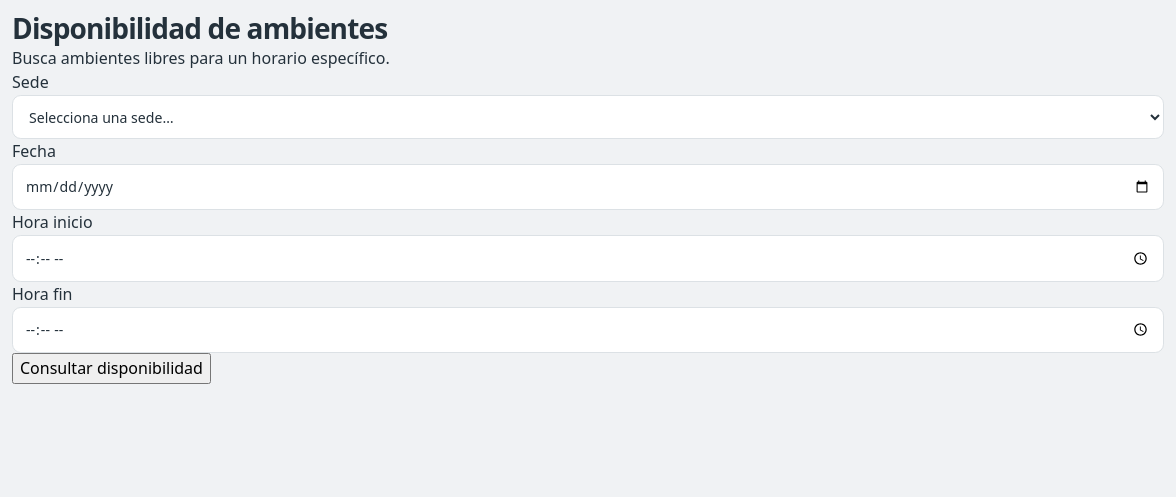
Test case: DisponibilidadPage reservation handoff › shows availability but no reserve action for instructors
The width and height of the screenshot is (1176, 497).
Select "Centro" in the dropdown labelled "Sede" at (588, 117), box [12,95,1164,139]
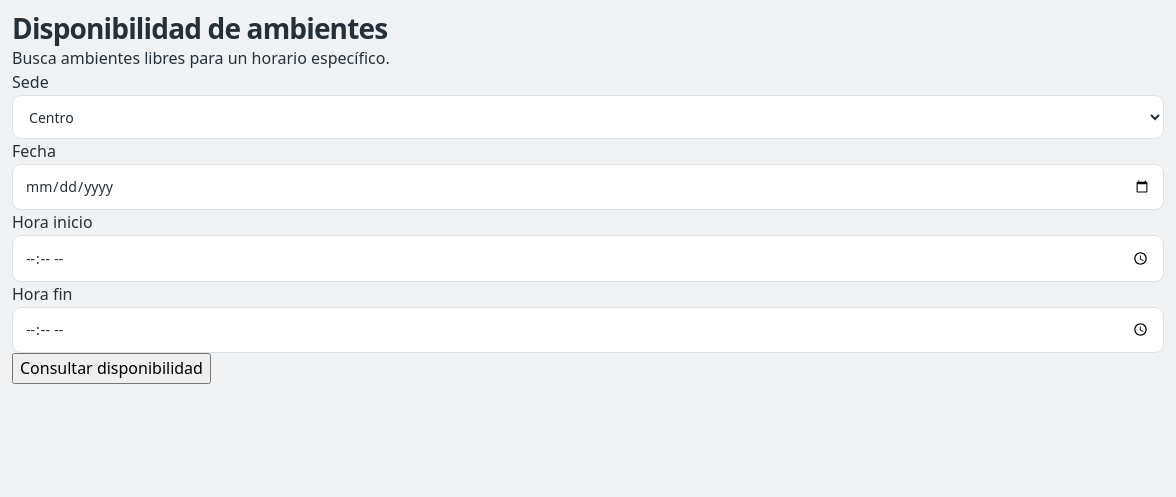
Type "2028-02-29" into the date field labelled "Fecha".
click(588, 187); type("2028-02-29")  # box [12,164,1164,210]
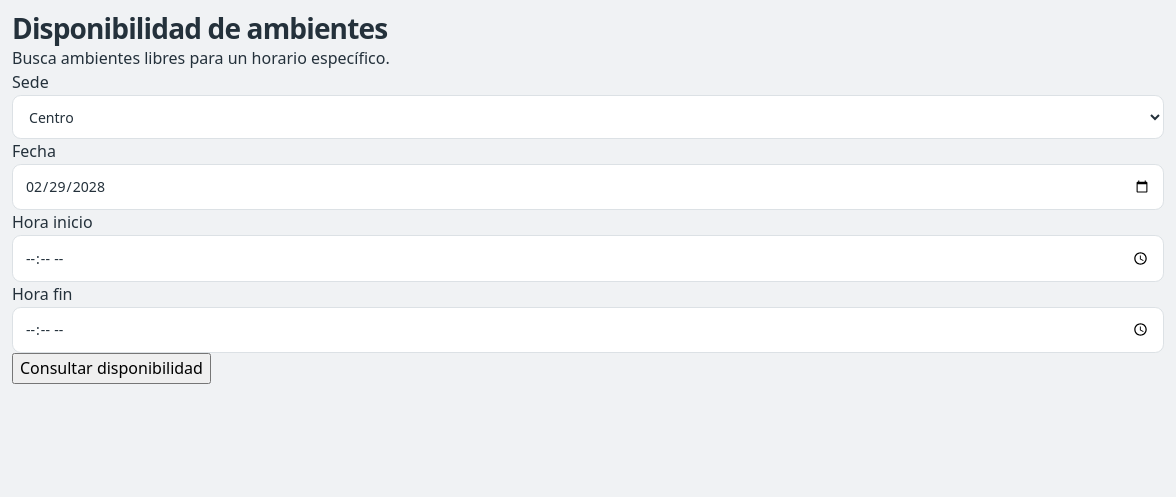
Type "08:00" into the time field labelled "Hora inicio".
click(588, 258); type("08:00")  # box [12,235,1164,282]
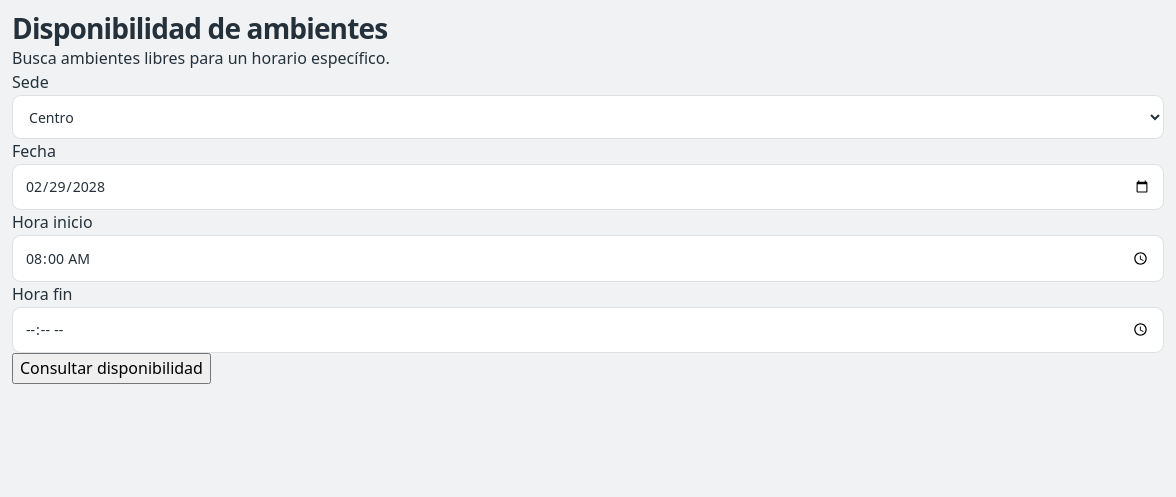
Type "10:30" into the time field labelled "Hora fin".
click(588, 330); type("10:30")  # box [12,306,1164,353]
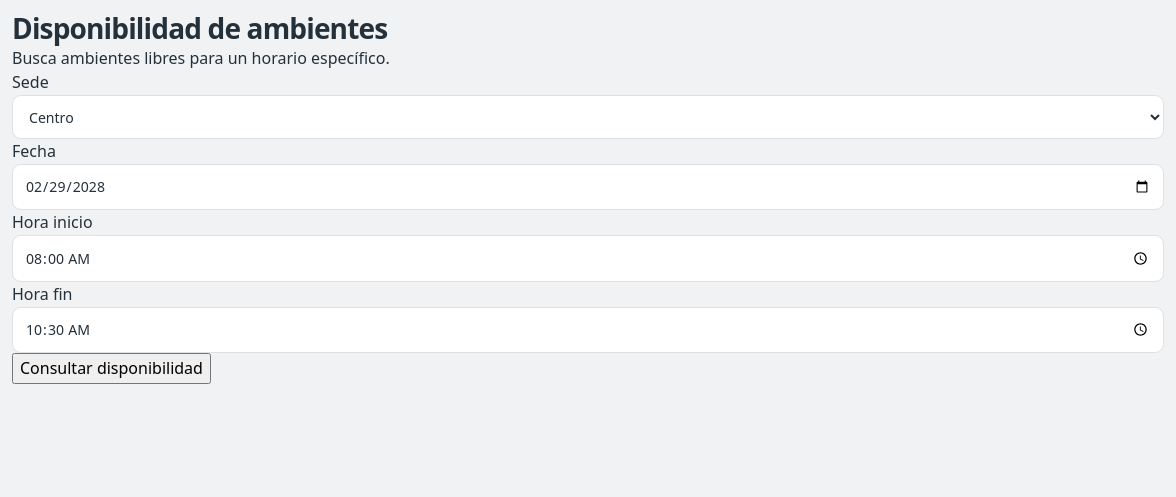
Submit the form "Consultar disponibilidad"
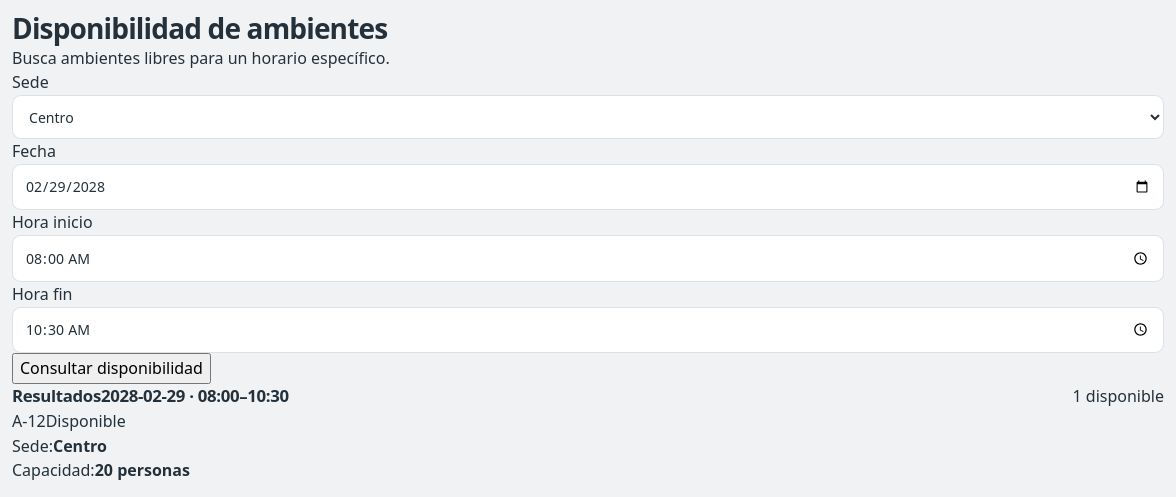
Check: the text "A-12" is shown, box [12,410,46,432]
Check: the text "Disponible" is shown, box [46,410,126,432]
